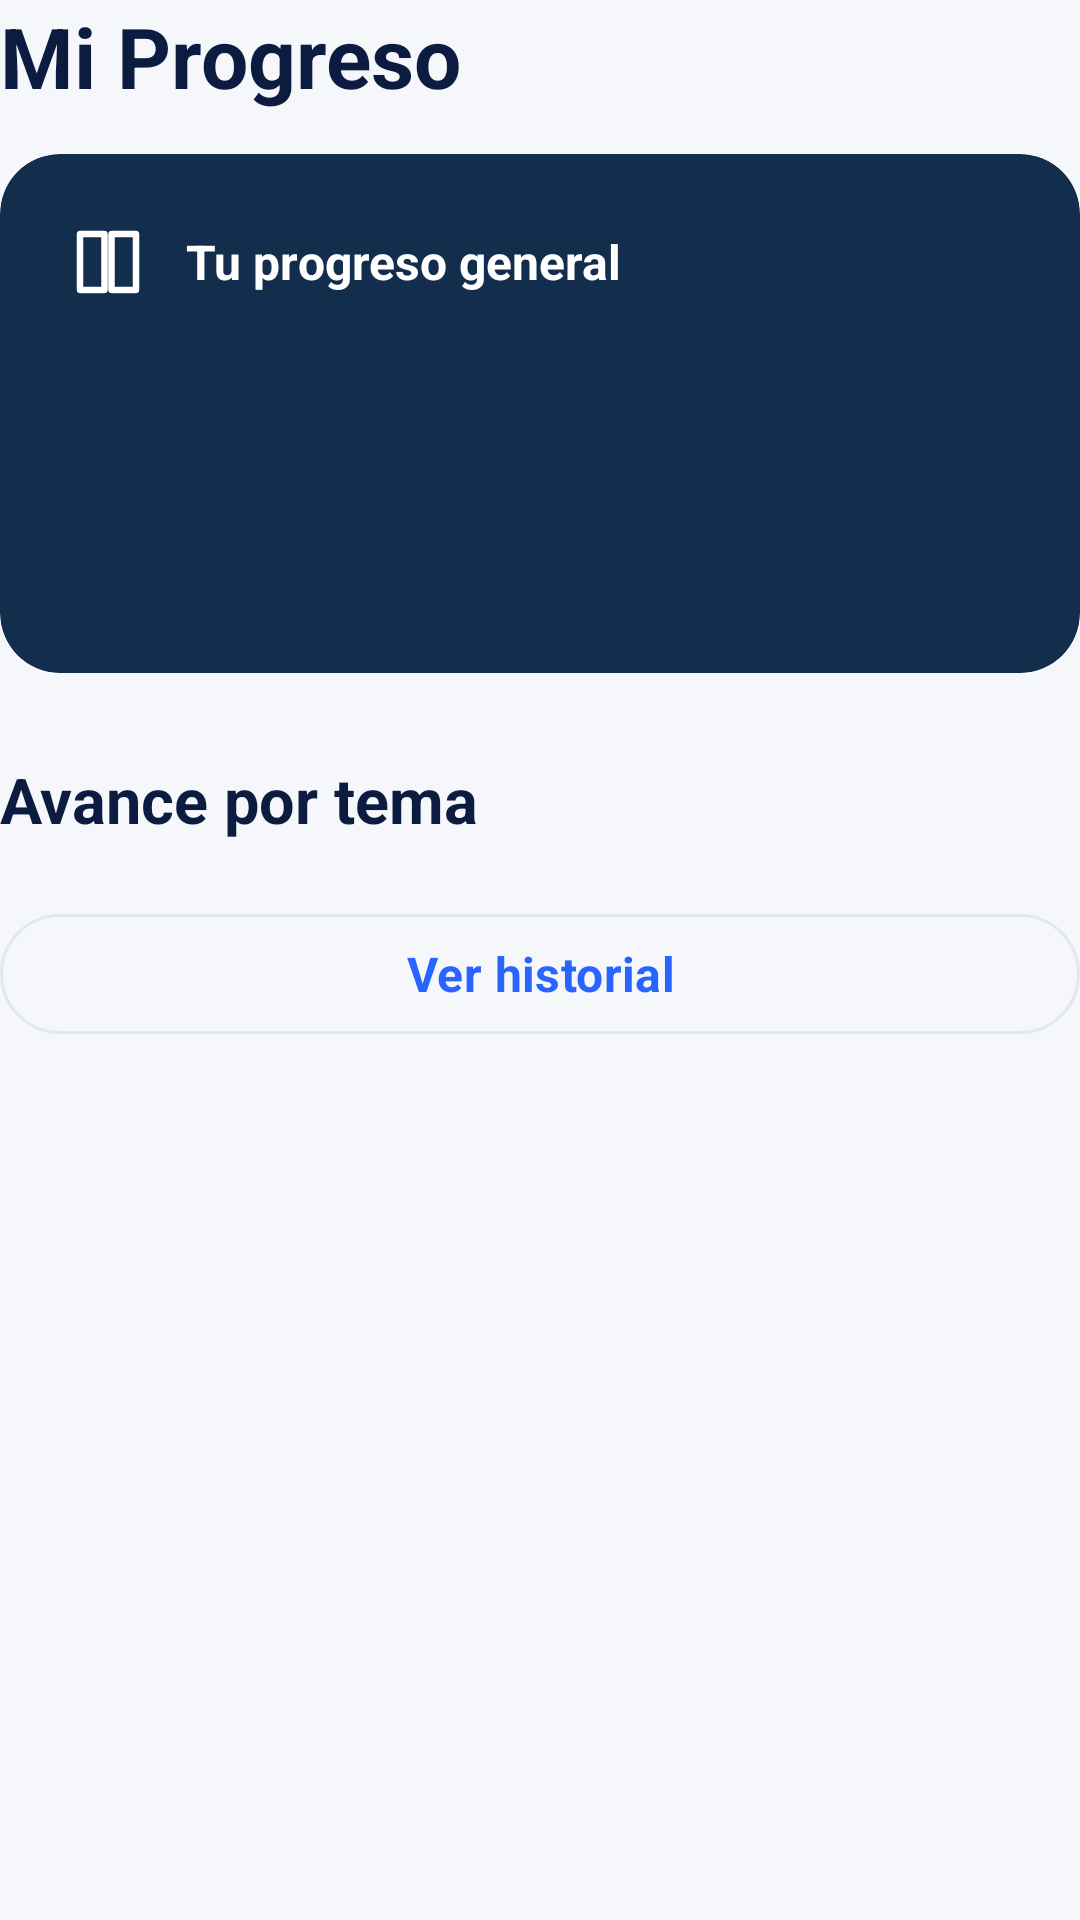

Named icons in this screenshot (1080x1920) and their bounding boxes, (x1, y1, x2, y2):
libro: (76, 230, 140, 294)
